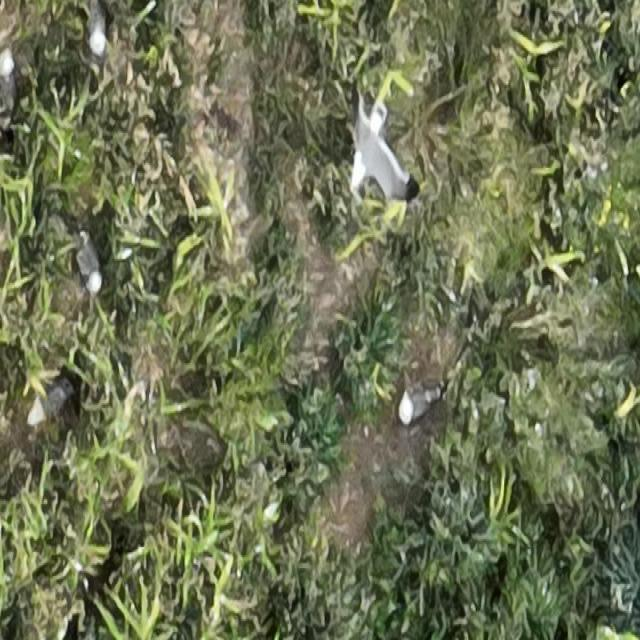F: (349, 100, 407, 198)
umineko: (30, 384, 66, 426), (399, 390, 436, 421), (78, 242, 100, 292), (87, 2, 106, 53)
